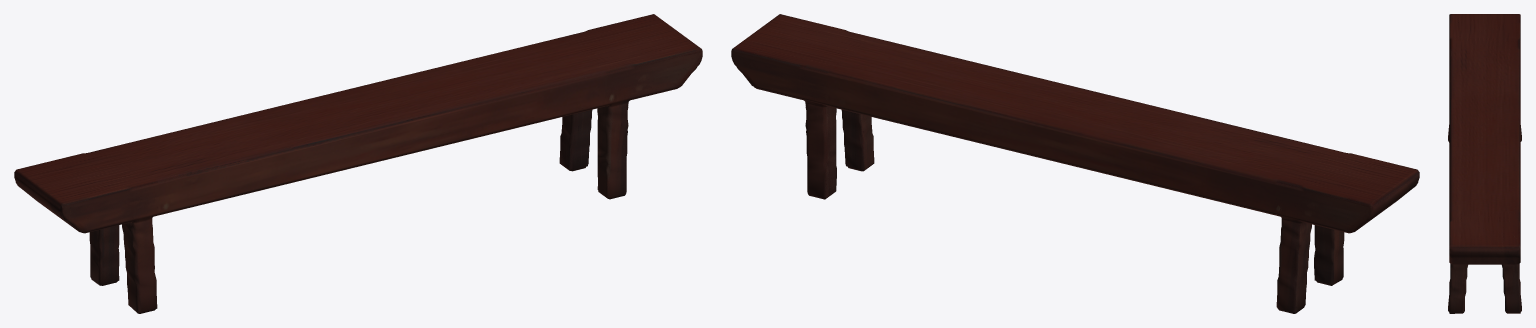
File: Wood_Bench_HARVEST__0403043313_texture.glb
3 renders of one model, left to right at view 1: azimuth 30°, elevation 25°; view 2: azimuth 150°, elevation 25°; view 3: azimuth 270°, elevation 25°, orthographic. The views are drawn at different scales.
Visible parts, largest first — view 1: Mesh_0.002; view 2: Mesh_0.002; view 3: Mesh_0.002.
Part boxes in pixels (left/top/right/bottom): Mesh_0.002: left=14, top=14, right=702, bottom=313; Mesh_0.002: left=731, top=14, right=1419, bottom=313; Mesh_0.002: left=1448, top=14, right=1521, bottom=313.
Size of the model in its own units: 2.39 by 0.4572 by 0.3195.
Materials: 1 (1 with a texture image).
